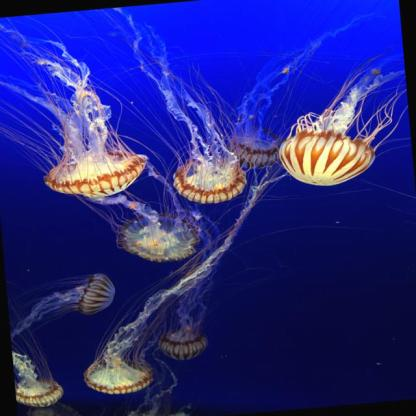jellyfish: (277, 127, 378, 190), (37, 152, 149, 201), (119, 215, 201, 263), (80, 352, 154, 397), (176, 161, 246, 204), (228, 129, 280, 168), (74, 270, 118, 316), (158, 327, 214, 361), (14, 376, 68, 408), (25, 402, 86, 415)
